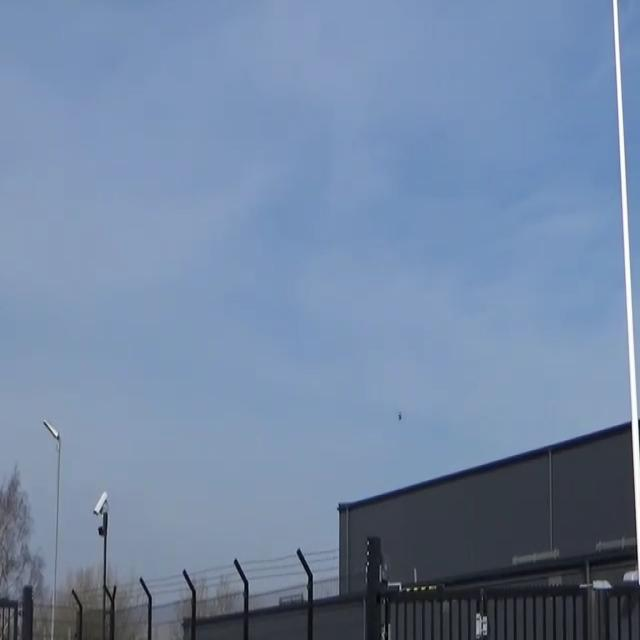Helicopter: (388, 400, 413, 428)
